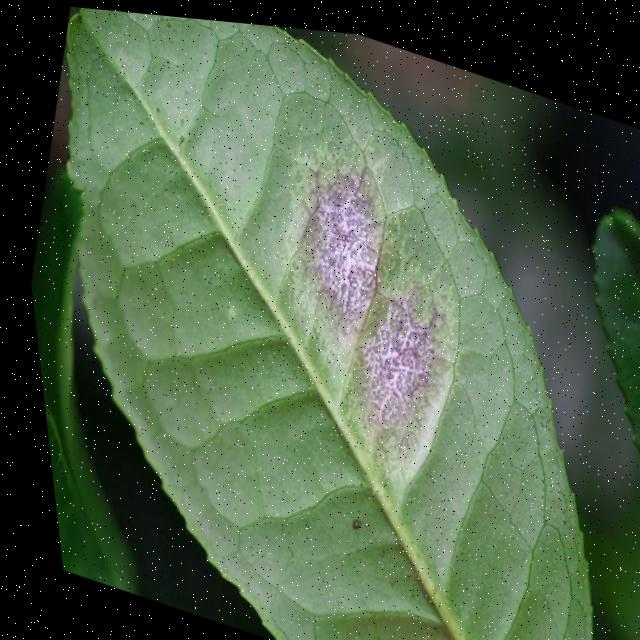Tea exobasidium blight: (312, 253, 467, 449), (270, 139, 401, 325)
